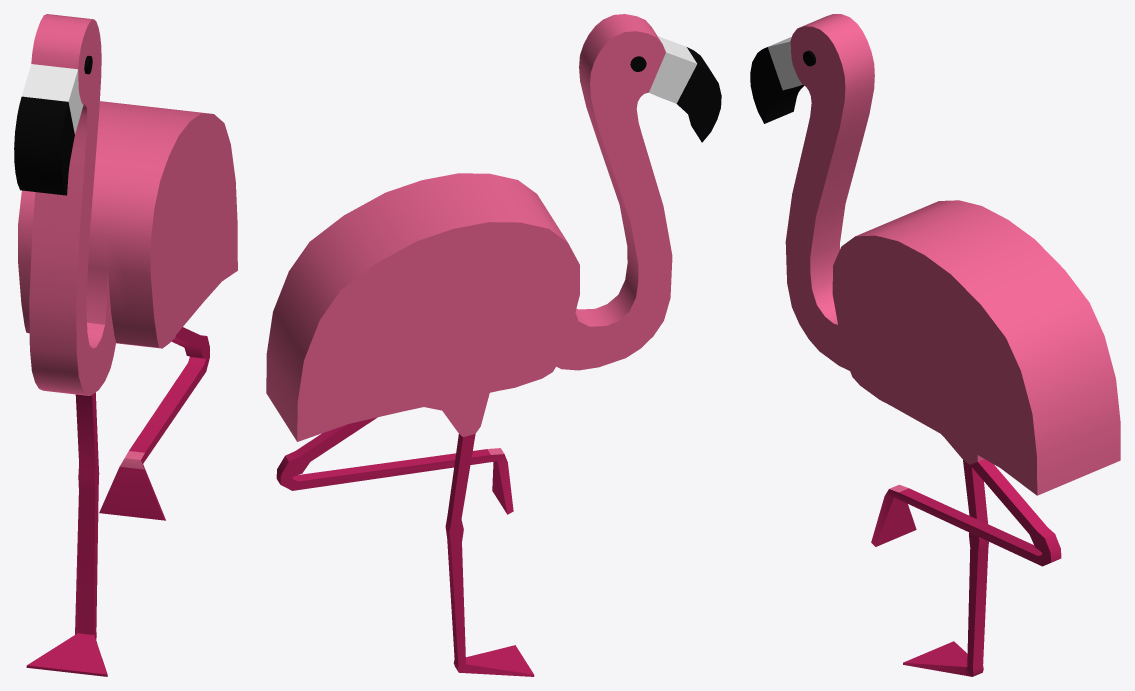
Rendered from flamingo.gltf.
3 views of the same model, side by side, from view 1: azimuth 30°, elevation 25°; view 2: azimuth 150°, elevation 25°; view 3: azimuth 270°, elevation 25° (orthographic). The views are drawn at different scales.
Parts seen in each view (by area): view 1: Plane.160; view 2: Plane.160; view 3: Plane.160.
Boxes of the visible parts, x1=… form: Plane.160: x1=14, y1=14, x2=237, y2=676; Plane.160: x1=266, y1=14, x2=721, y2=676; Plane.160: x1=750, y1=14, x2=1120, y2=676.
Bounding box in the file's own units: 1.23 × 2.23 × 1.23.
1 material, 1 textured.
